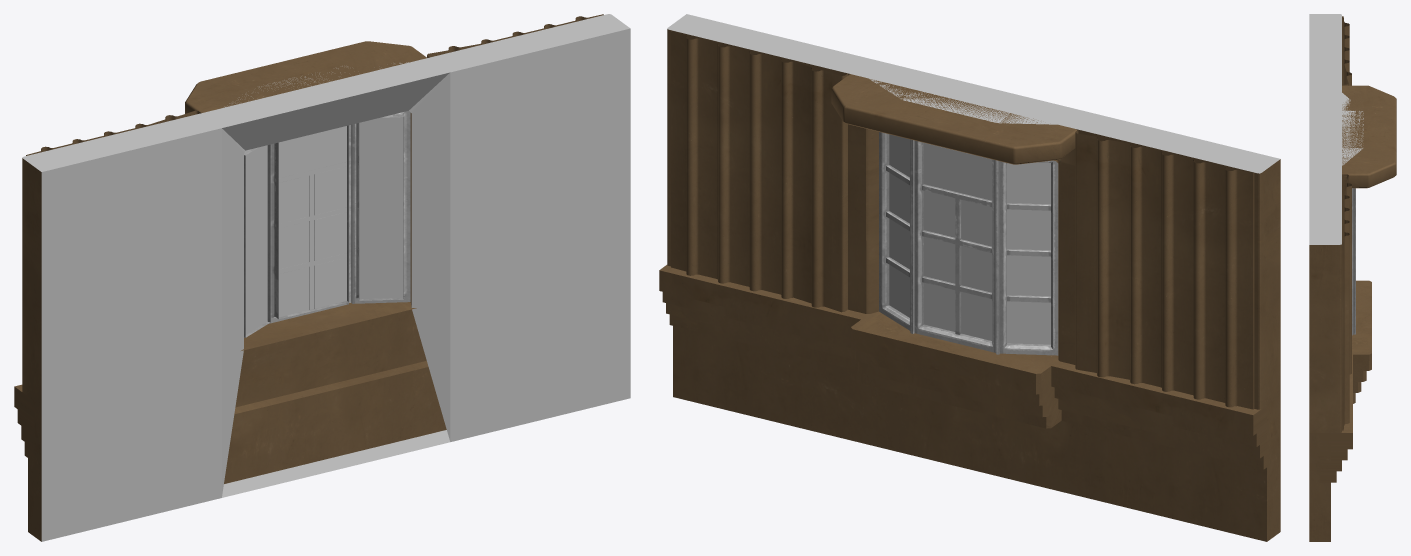
File: SM_Building02Wall01R.fbx
The picture shows the model from 3 angles, left to right: view 1: azimuth 30°, elevation 25°; view 2: azimuth 150°, elevation 25°; view 3: azimuth 270°, elevation 25°; orthographic projection. The views are drawn at different scales.
Visible parts, largest first — view 1: SM_Building02Wall01R_LOD0; view 2: SM_Building02Wall01R_LOD0; view 3: SM_Building02Wall01R_LOD0.
Boxes of the visible parts, bbox=[...] form: SM_Building02Wall01R_LOD0: bbox=[14, 14, 630, 541]; SM_Building02Wall01R_LOD0: bbox=[659, 14, 1280, 541]; SM_Building02Wall01R_LOD0: bbox=[1309, 14, 1396, 541].
Size of the model in its own units: 500 by 80 by 300.
